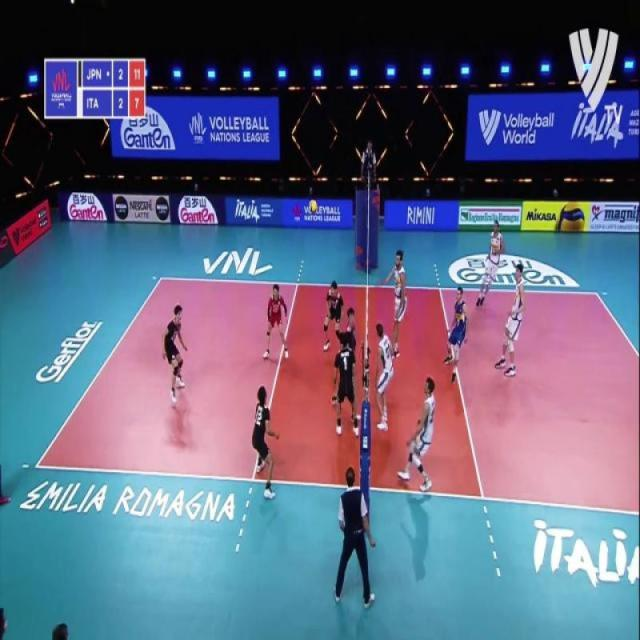volleyball: (553, 199, 588, 234), (310, 198, 318, 218)
